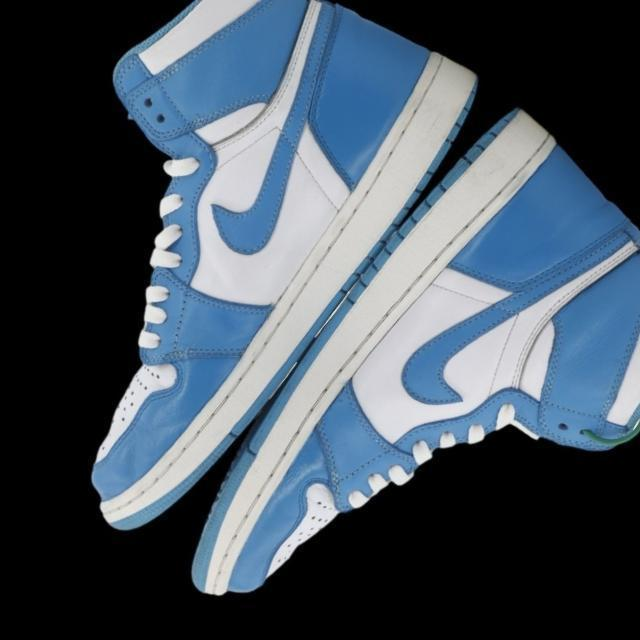nike original jordan 1: (119, 70, 640, 640), (0, 0, 517, 569)
